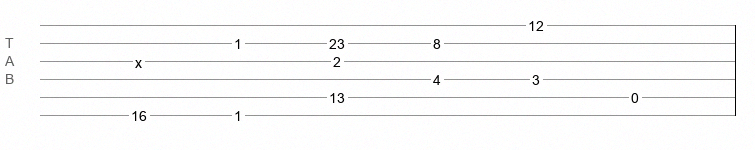0: (631, 90, 639, 100)
1: (234, 36, 242, 46), (234, 108, 242, 118)
12: (528, 18, 544, 28)
13: (329, 90, 345, 100)
16: (131, 108, 147, 118)
2: (333, 54, 341, 64)
23: (329, 36, 345, 46)
3: (532, 72, 540, 82)
4: (433, 72, 441, 82)
8: (433, 36, 441, 46)
x: (135, 55, 142, 63)
